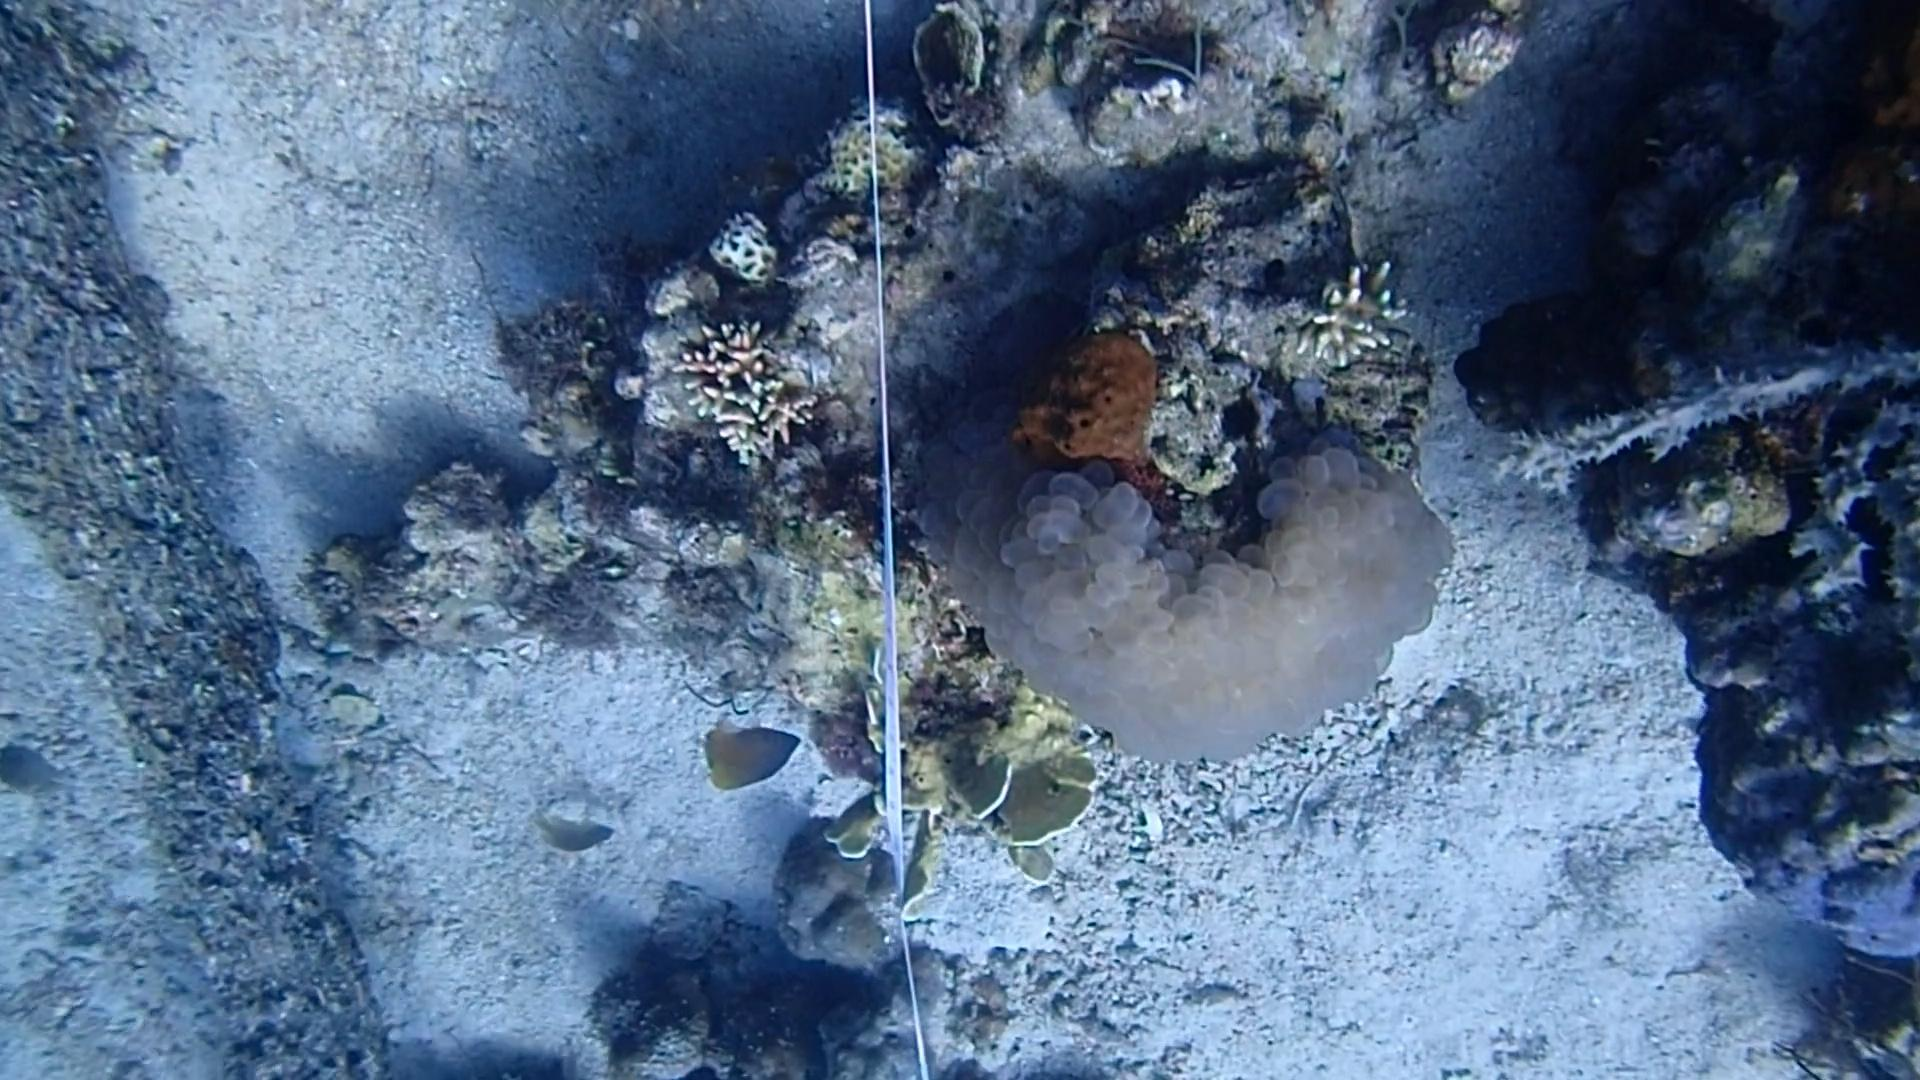Light Fish: (518, 804, 624, 868), (0, 736, 69, 810)
Yellow-Blue Fish: (688, 709, 820, 802)
